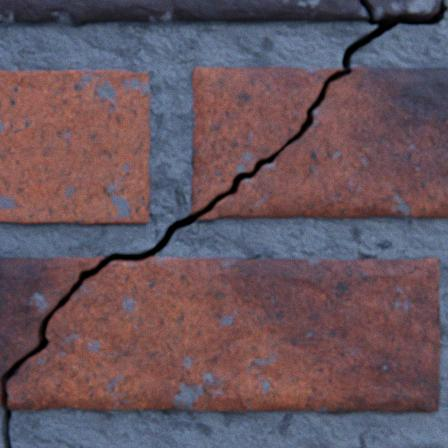brick: (0, 70, 150, 224)
broken_brick: (7, 256, 438, 410), (198, 67, 447, 219), (191, 67, 342, 214), (0, 256, 105, 406), (0, 0, 367, 23), (365, 0, 439, 19)
crack: (1, 0, 447, 447)
